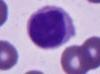L: (26, 4, 76, 49)
